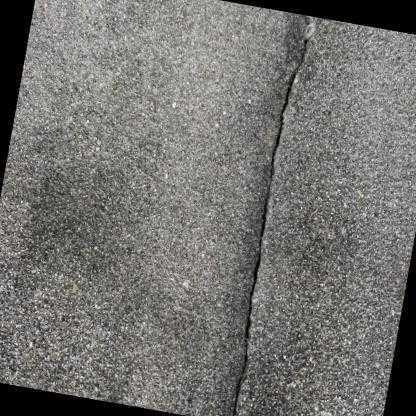crack: (232, 39, 306, 416)
